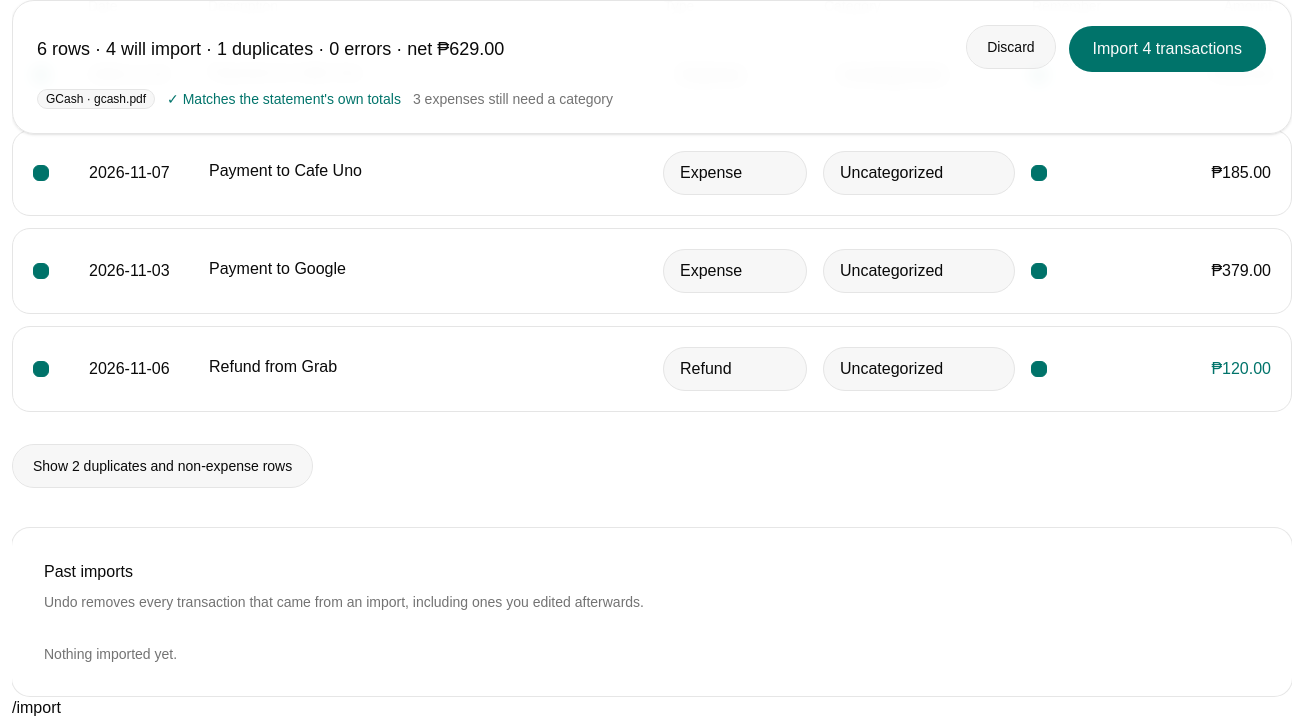
Scenario: preview › lists the rows to import first, hides duplicates and non-expenses until asked, and marks duplicates
Earlier steps of the test are not shown.
(page scrolled)
Expected: the text "rows ·" is shown, [47, 39, 106, 59]
What coordinates should you click on to do the following:
click the button "Show 2 duplicates and non-expense rows"
I would click on:
 (163, 466)
Its box is [12, 444, 313, 488].
(page scrolled)
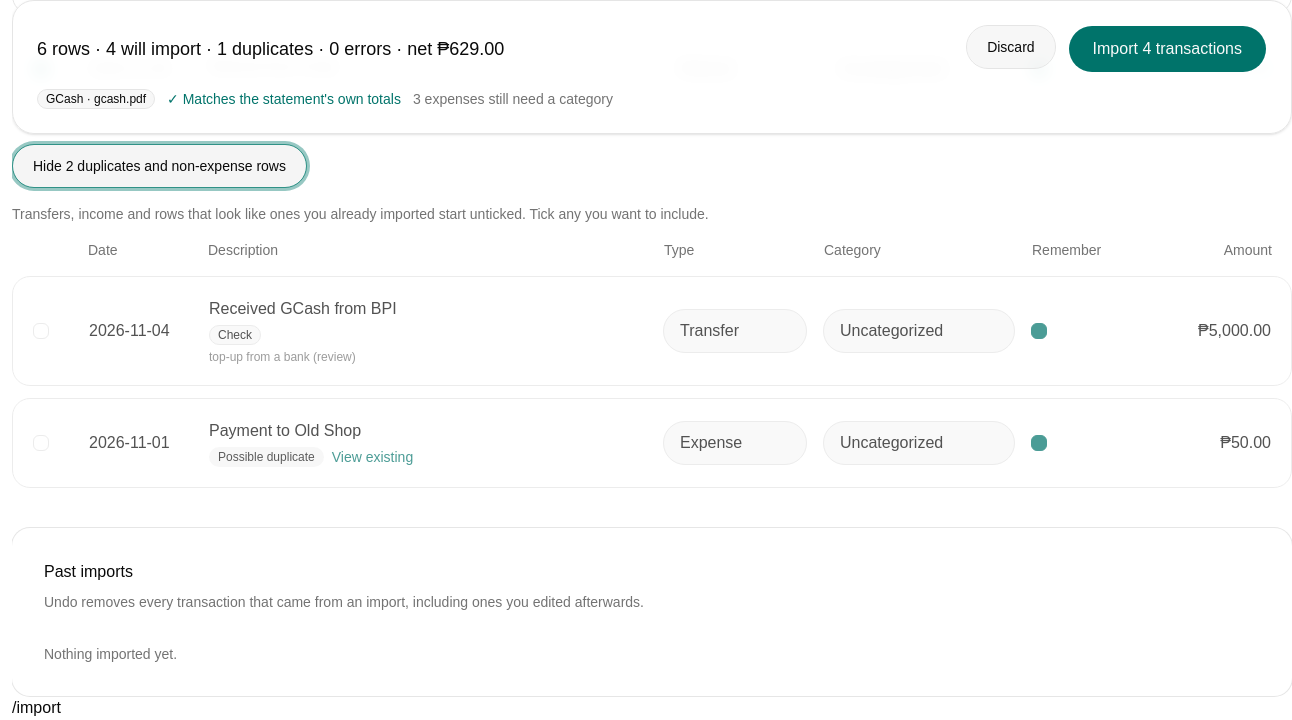
Expected: the text "Possible duplicate" is shown, [209, 447, 324, 467]
Expected: the icon "Check" is shown, [209, 325, 261, 345]
Expected: the text "top-up from a bank (review)" is shown, [209, 350, 356, 364]
